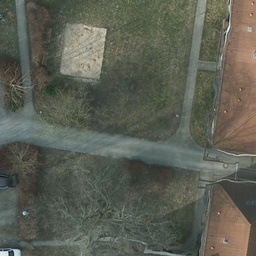car: (1, 245, 20, 256)
